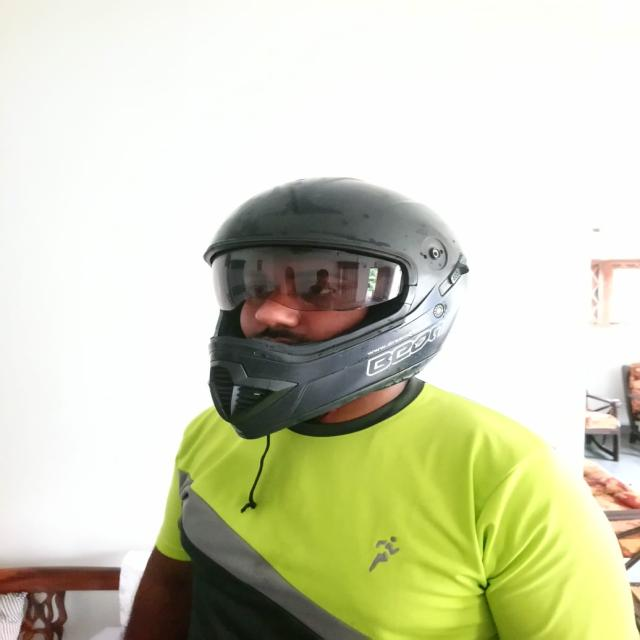With Helmet: (202, 175, 464, 438)
